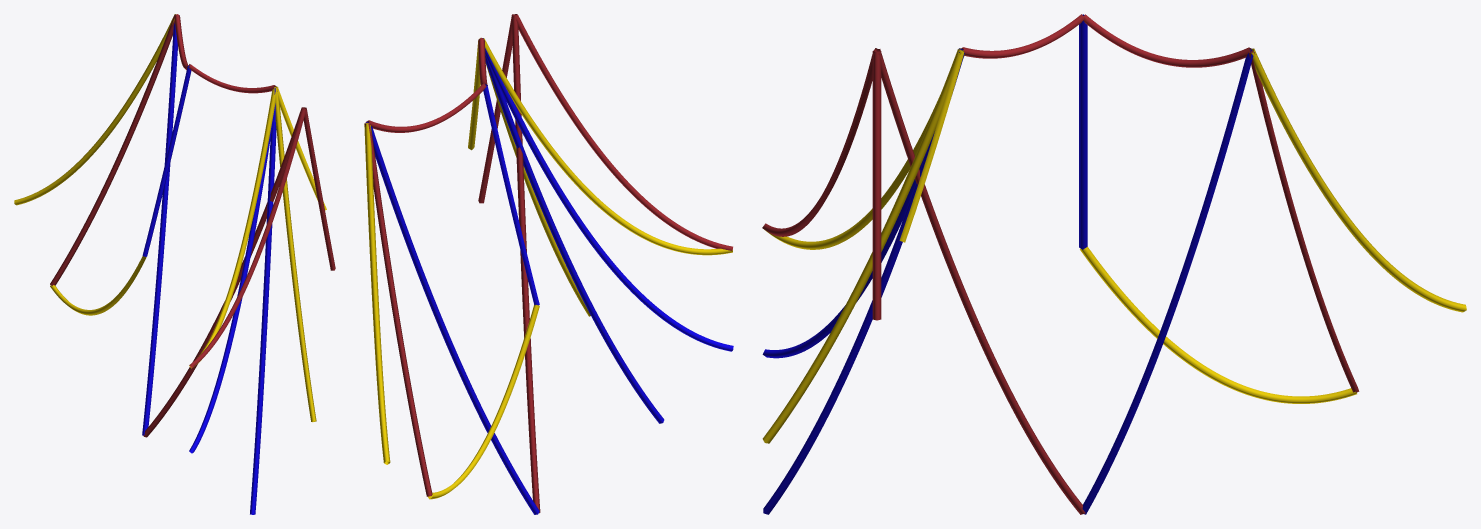
File: Pipes_1 1.fbx
3 renders of one model, left to right at view 1: azimuth 30°, elevation 25°; view 2: azimuth 150°, elevation 25°; view 3: azimuth 270°, elevation 25°, orthographic. The views are drawn at different scales.
Parts seen in each view (by area): view 1: Catenary.020, Catenary.022, Catenary.019, Catenary.026, Catenary.015, Catenary.014, Catenary.021, Catenary.016, Catenary.027, Catenary.023, Catenary.017, Catenary.028 (+2 smaller); view 2: Catenary.021, Catenary.022, Catenary.020, Catenary.015, Catenary.027, Catenary.026, Catenary.014, Catenary.016, Catenary.028, Catenary.023, Catenary.019, Catenary.017 (+2 smaller); view 3: Catenary.021, Catenary.022, Catenary.019, Catenary.027, Catenary.020, Catenary.028, Catenary.017, Catenary.026, Catenary.023, Catenary.016, Catenary.014, Catenary.024 (+3 smaller).
Part boxes in pixels (box(x1,y1,x2,y2)): Catenary.020: box(250, 88, 276, 514); Catenary.022: box(142, 22, 177, 435); Catenary.019: box(275, 87, 316, 422); Catenary.026: box(50, 14, 175, 285); Catenary.015: box(189, 91, 277, 453); Catenary.014: box(189, 87, 277, 368); Catenary.021: box(143, 107, 306, 437); Catenary.016: box(189, 108, 306, 367); Catenary.027: box(14, 14, 175, 205); Catenary.023: box(142, 65, 191, 256); Catenary.017: box(301, 107, 335, 270); Catenary.028: box(50, 256, 146, 315); Catenary.021: box(511, 15, 540, 513); Catenary.022: box(366, 121, 539, 514); Catenary.020: box(485, 55, 664, 423); Catenary.015: box(483, 38, 733, 351); Catenary.027: box(364, 123, 390, 464); Catenary.026: box(364, 122, 432, 496); Catenary.014: box(484, 38, 732, 255); Catenary.016: box(513, 14, 732, 250); Catenary.028: box(428, 305, 539, 499); Catenary.023: box(483, 84, 539, 305); Catenary.019: box(479, 38, 590, 316); Catenary.017: box(478, 14, 517, 203); Catenary.021: box(874, 49, 1085, 514); Catenary.022: box(1082, 49, 1253, 514); Catenary.019: box(762, 49, 964, 443); Catenary.027: box(1251, 48, 1466, 312); Catenary.020: box(763, 49, 964, 514); Catenary.028: box(1080, 246, 1356, 403); Catenary.017: box(872, 50, 881, 320); Catenary.026: box(1249, 49, 1359, 392); Catenary.023: box(1079, 14, 1087, 249); Catenary.016: box(762, 48, 879, 236); Catenary.014: box(764, 48, 961, 249); Catenary.024: box(1083, 14, 1252, 67).
Size of the model in its own units: 443 by 835 by 1001.
